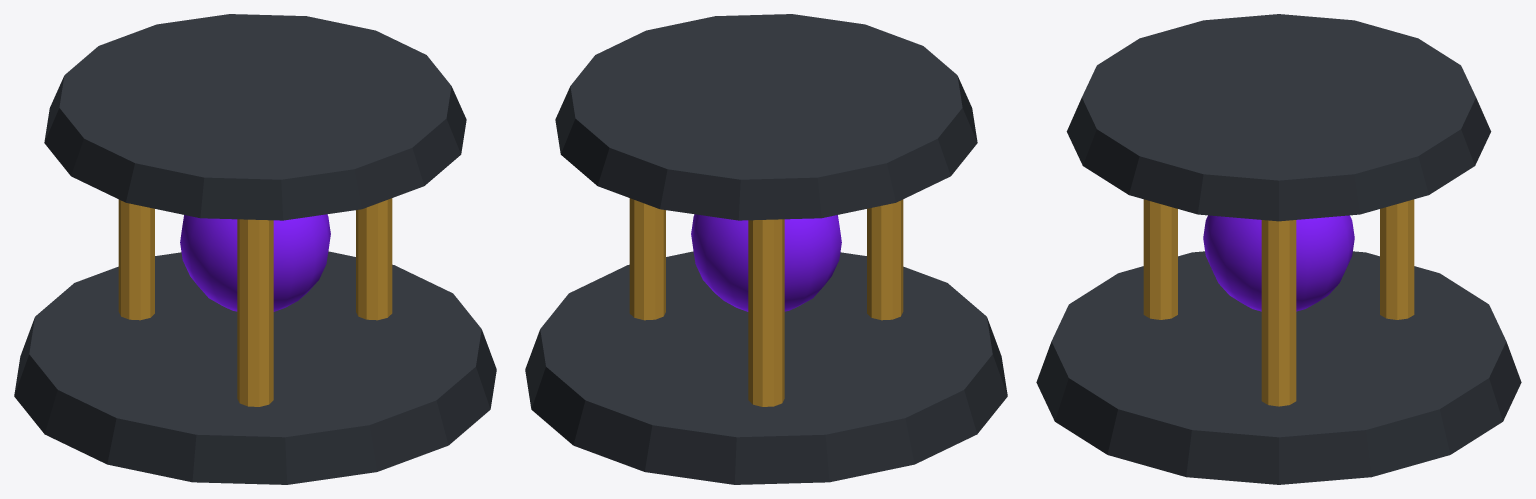
The model's file is quantum_reactor.obj.
3 renders of one model, left to right at view 1: azimuth 30°, elevation 25°; view 2: azimuth 150°, elevation 25°; view 3: azimuth 270°, elevation 25°, orthographic.
Visible parts, largest first — view 1: QuantumReactor; view 2: QuantumReactor; view 3: QuantumReactor.
Part boxes in pixels (x1,y1,x2,y2): QuantumReactor: (14,14,496,484); QuantumReactor: (525,14,1007,484); QuantumReactor: (1036,14,1521,484).
Bounding box in the file's own units: 3.2 × 2.08 × 3.2.
